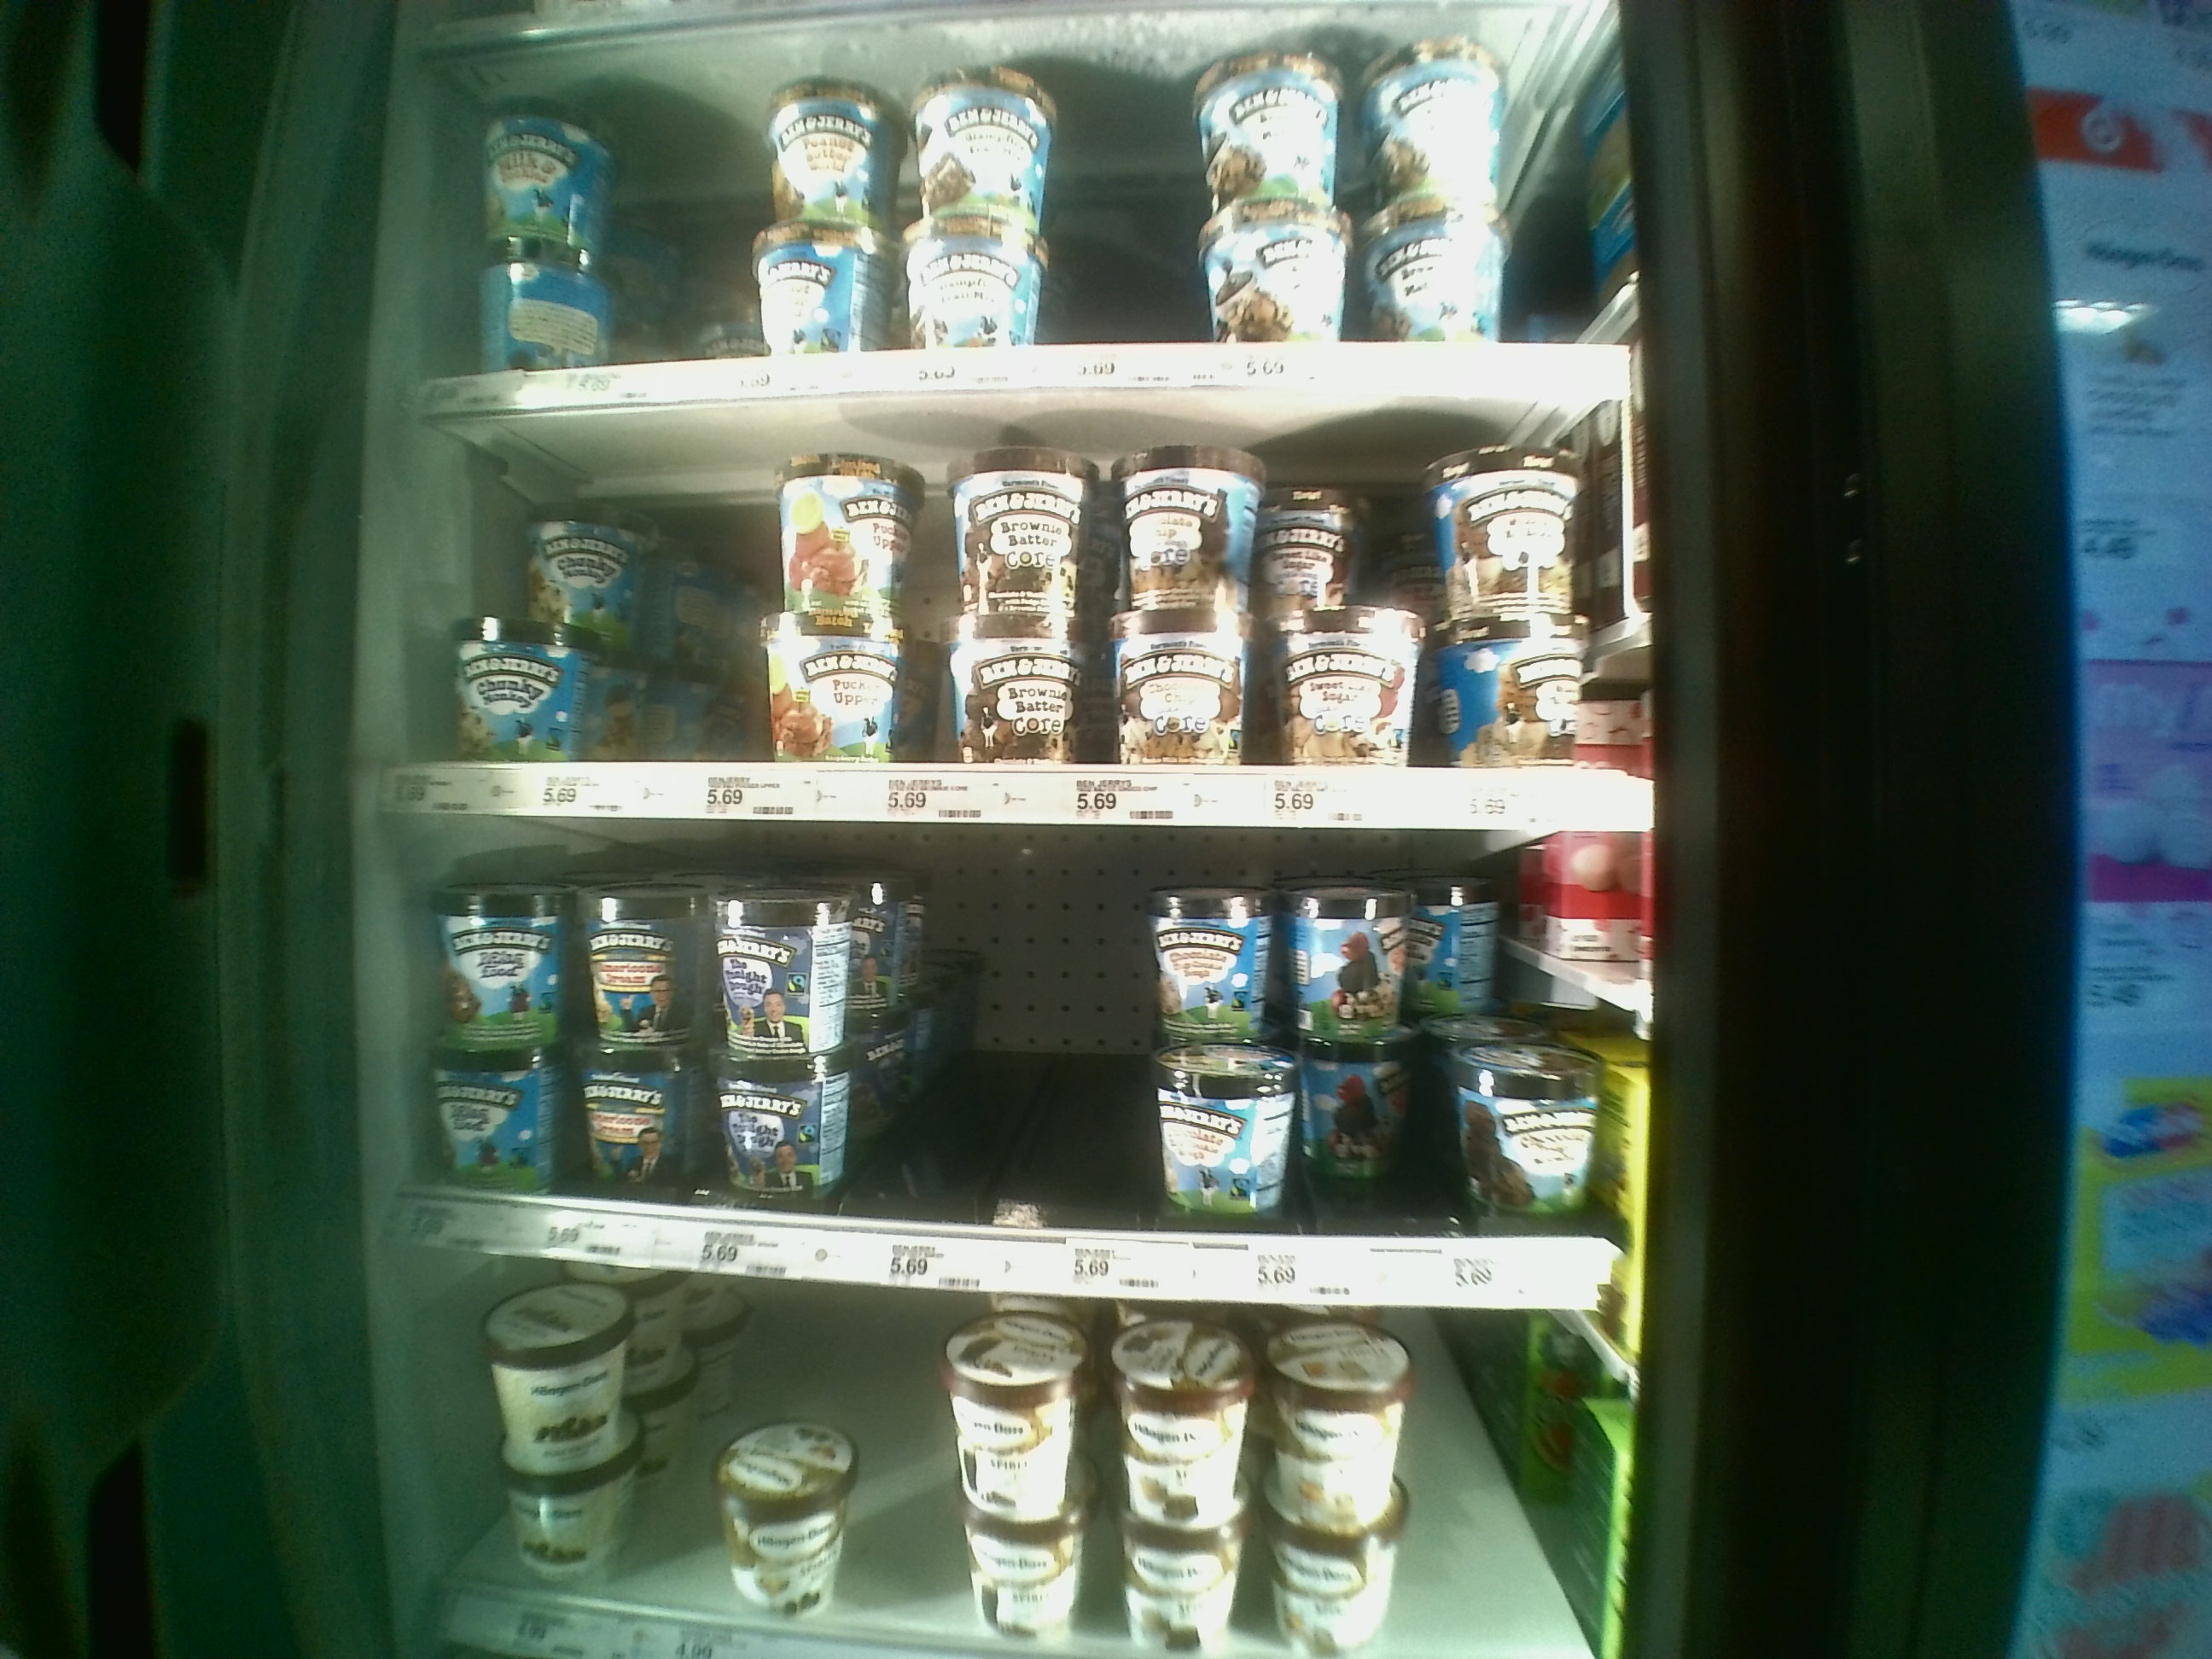ice-cream-shelf: (364, 819, 1634, 1305), (371, 410, 1651, 828)
